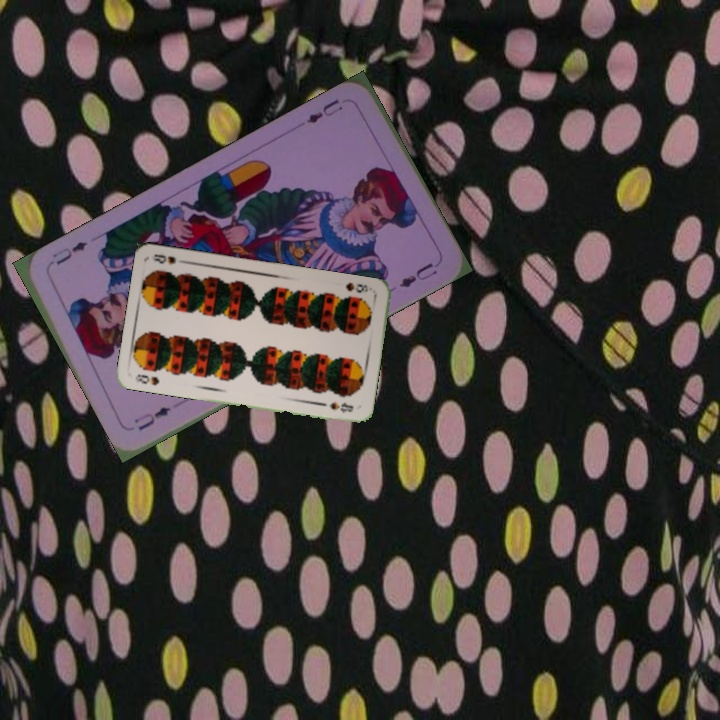EU: (303, 94, 346, 126), (130, 402, 174, 433)
S8: (342, 278, 375, 295), (131, 370, 162, 388)
